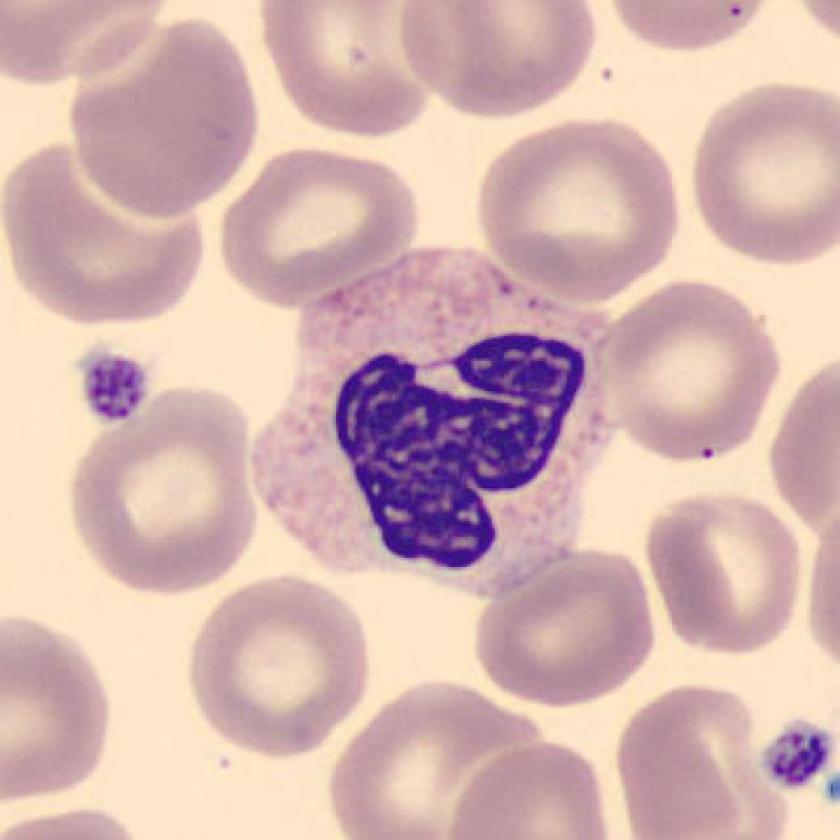neutrophil: (251, 242, 629, 593)
